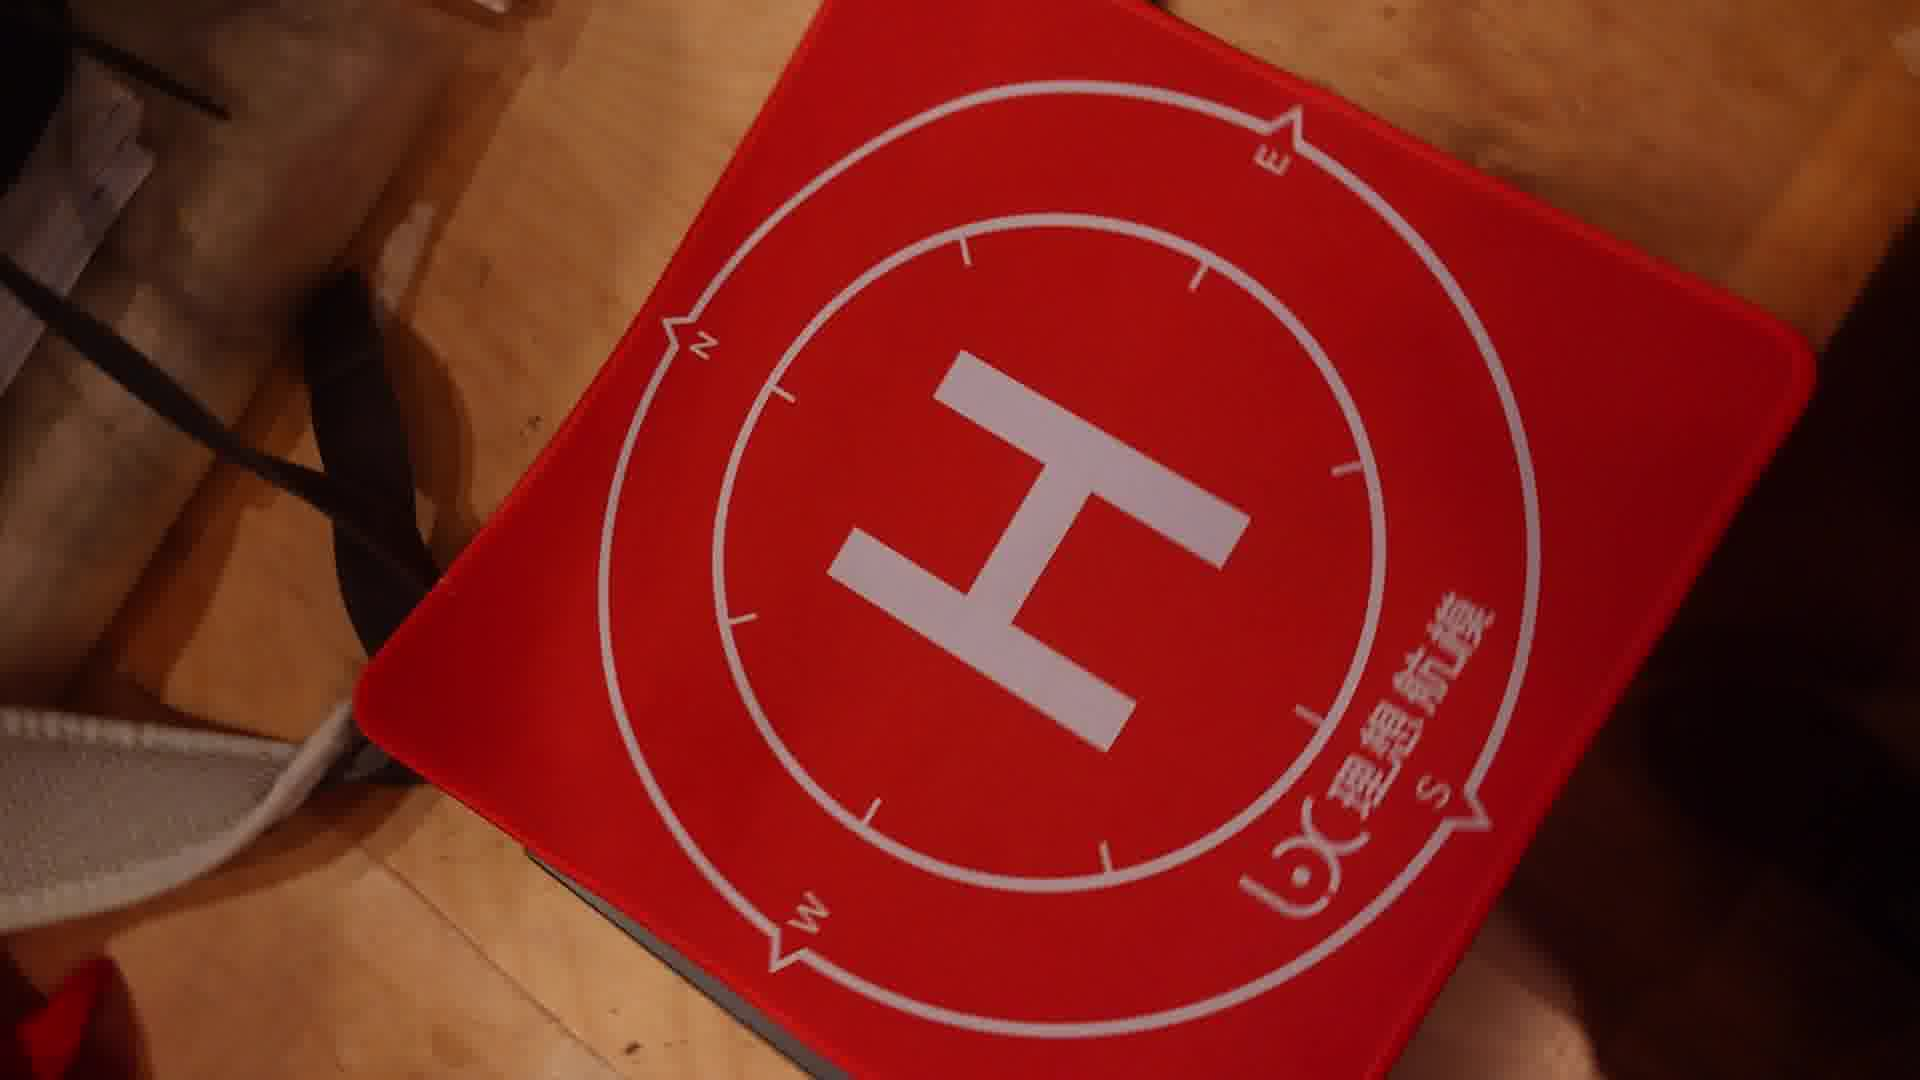H: (823, 349, 1257, 752)
